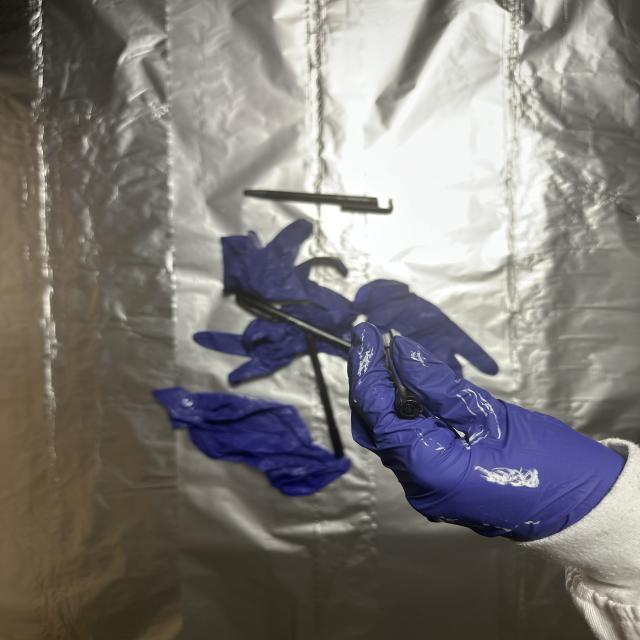gloves_contaminated: (348, 323, 624, 541)
